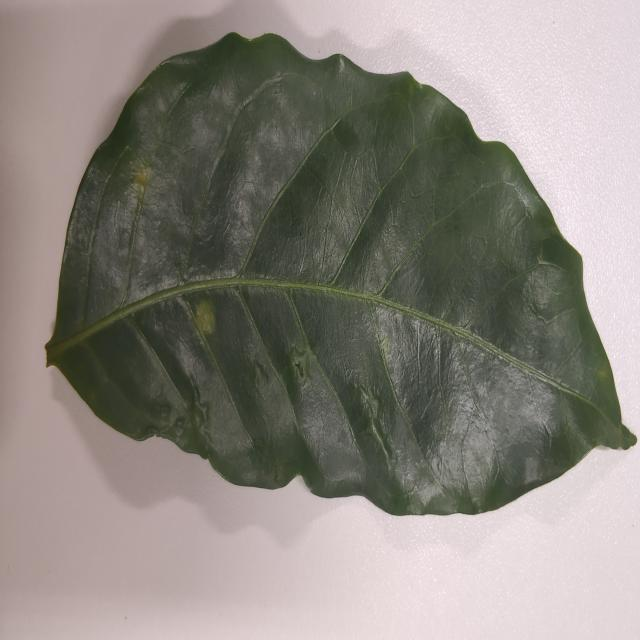Enfermedad-Roya: (44, 33, 636, 519)
